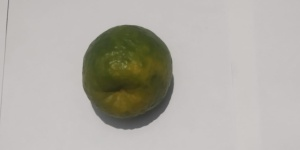BAD: (82, 23, 175, 123)
